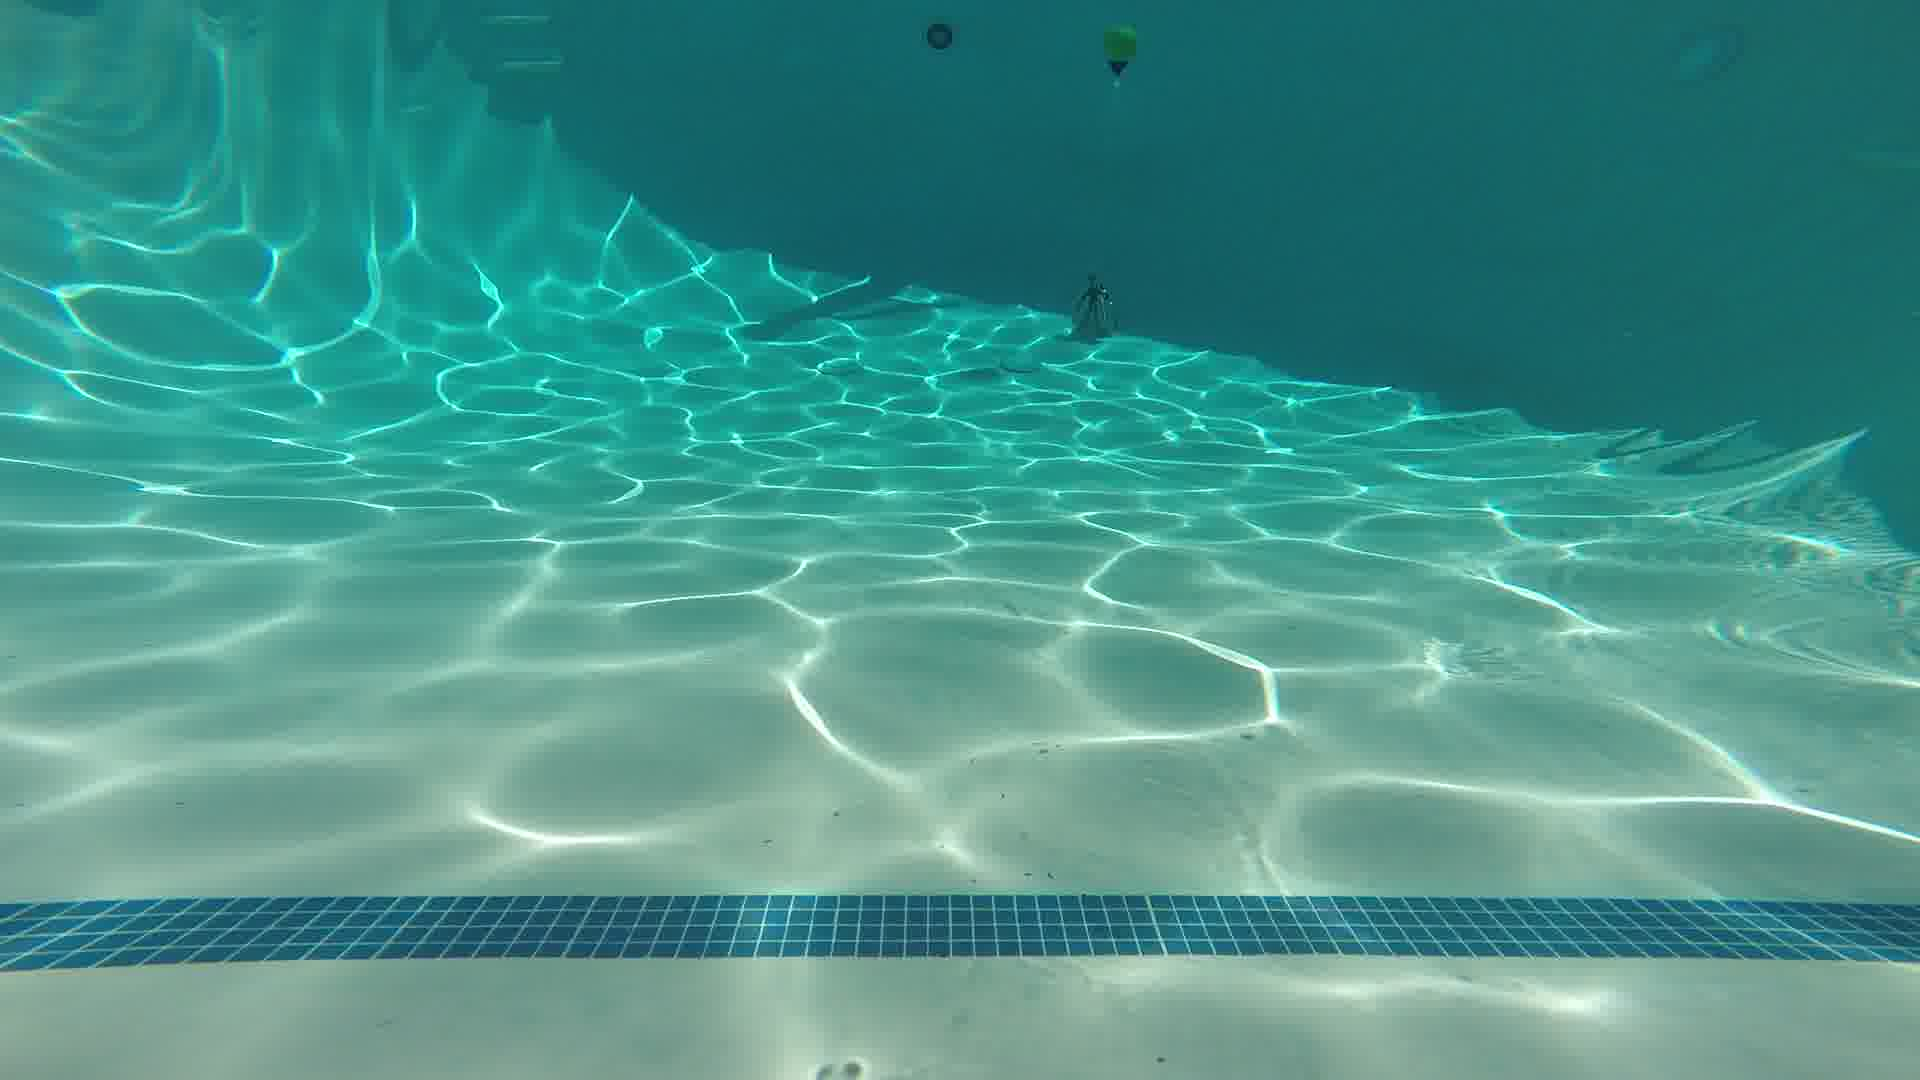yellow_buoy: (1100, 22, 1139, 80)
